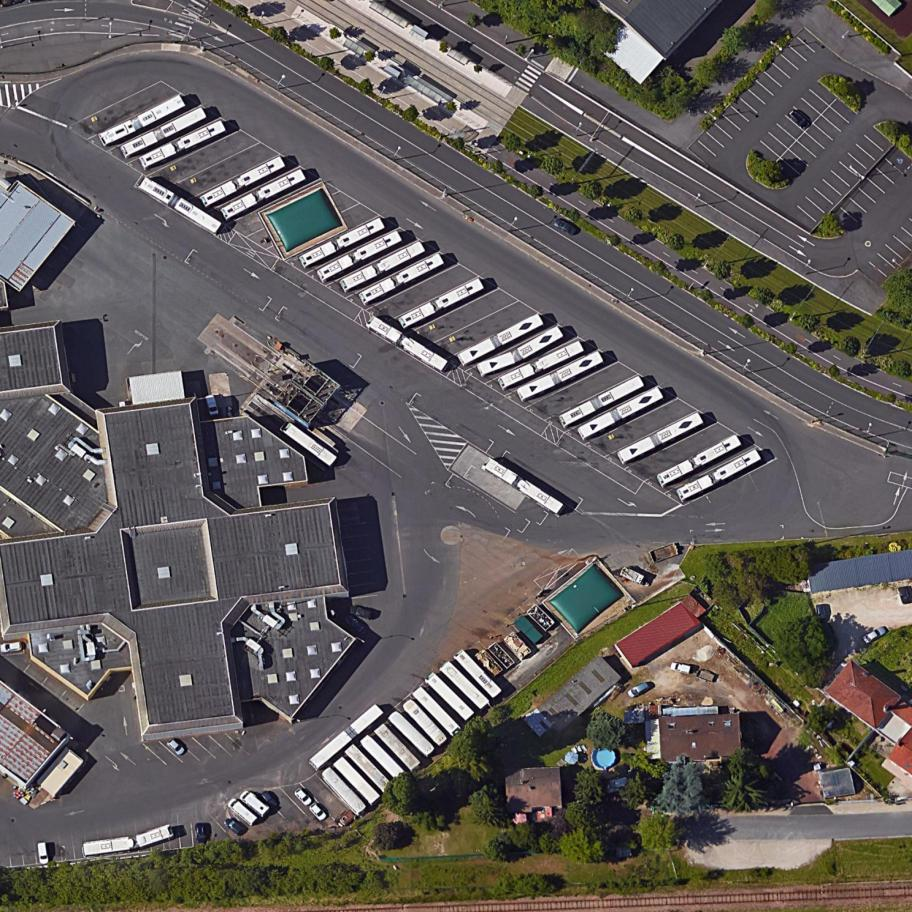large-vehicle: (481, 456, 567, 519), (137, 175, 223, 237), (309, 702, 385, 771), (577, 385, 666, 443), (456, 312, 546, 369), (516, 347, 606, 404), (676, 447, 764, 504), (358, 251, 447, 307), (616, 410, 705, 466), (98, 93, 188, 148), (655, 433, 743, 489), (558, 374, 646, 430), (397, 277, 486, 332), (366, 314, 450, 372), (316, 229, 404, 284), (119, 106, 208, 160), (497, 338, 586, 392), (220, 167, 307, 222), (199, 156, 287, 210), (476, 325, 565, 378), (339, 240, 427, 293), (139, 119, 227, 172), (299, 217, 385, 269), (82, 821, 175, 858), (359, 733, 411, 786), (438, 659, 491, 711), (281, 421, 338, 468), (411, 685, 462, 737), (424, 671, 476, 722), (453, 648, 504, 699), (344, 743, 394, 795), (332, 754, 382, 806), (401, 697, 450, 747), (374, 722, 423, 772), (388, 709, 437, 758), (321, 764, 368, 815)
small-vehicle: (238, 787, 272, 820), (226, 796, 259, 827), (786, 105, 813, 131), (860, 624, 889, 648), (344, 613, 370, 637), (224, 817, 246, 837), (348, 604, 376, 619), (259, 790, 278, 812), (205, 394, 220, 417), (671, 662, 691, 675), (817, 604, 829, 622)
